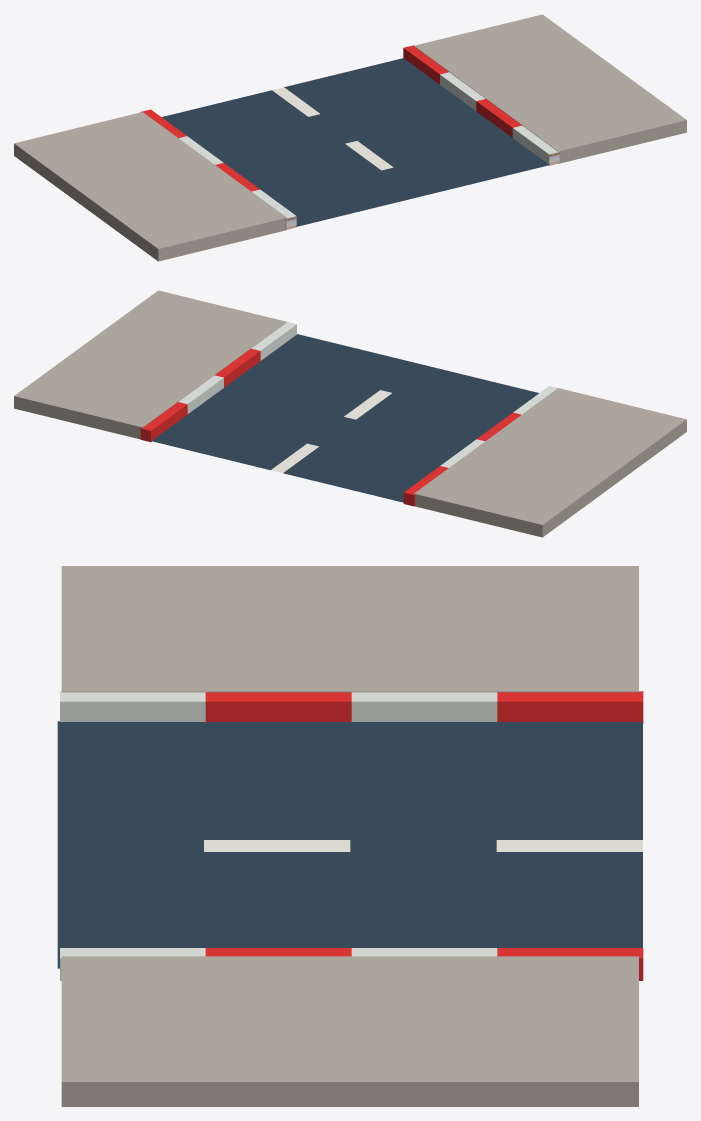
File: road_part.fbx
The picture shows the model from 3 angles, top to bottom: view 1: azimuth 30°, elevation 25°; view 2: azimuth 150°, elevation 25°; view 3: azimuth 270°, elevation 25°; orthographic projection. The views are drawn at different scales.
Parts seen in each view (by area): view 1: road, side1.001, side1, ledge1, ledge; view 2: road, side1.001, side1, ledge1, ledge; view 3: road, side1, side1.001, ledge, ledge1.
Part boxes in pixels (x1,y1,x2,y2): road: (162,58,549,226); side1.001: (14,112,286,261); side1: (414,14,686,163); ledge1: (403,45,559,165); ledge: (140,109,296,229); road: (151,334,538,502); side1.001: (414,388,686,537); side1: (14,290,286,439); ledge1: (140,322,296,442); ledge: (403,386,557,506); road: (57,721,642,968); side1: (61,956,638,1106); side1.001: (61,566,638,692); ledge: (60,691,643,723); ledge1: (60,948,643,980).
Bounding box in the file's own units: 1669 × 37.76 × 800.
